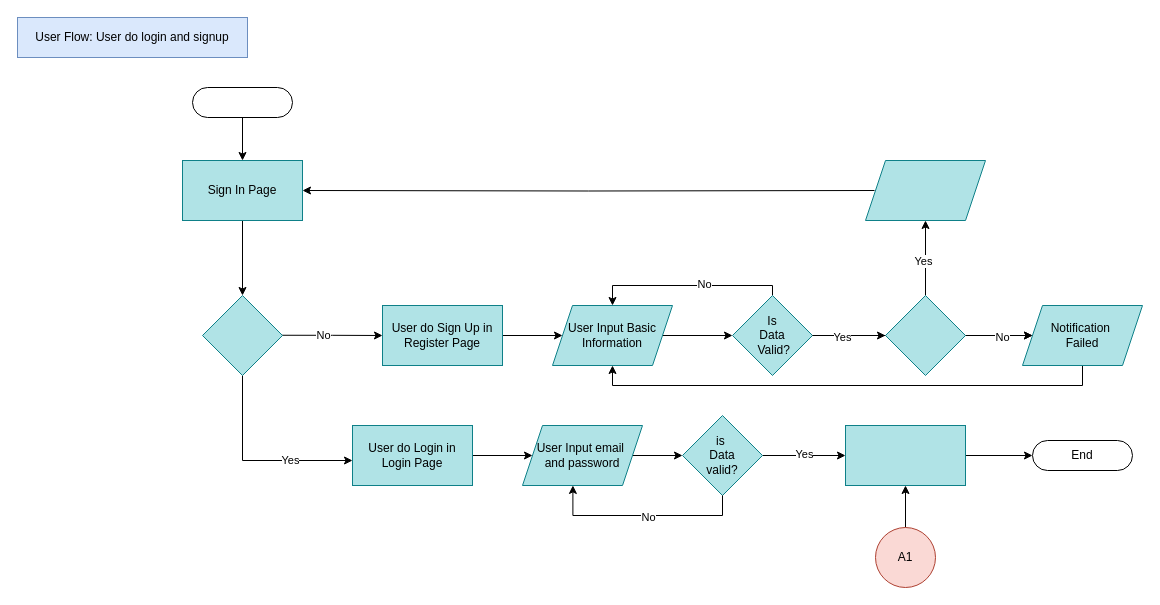
Some shapes in this 1160 by 605 pixel diagram are drawn without their labels. Each missing label, with the box of its shape:
Notification Success: (864, 160, 986, 220)
Register Success?: (884, 294, 966, 376)
Start: (192, 86, 292, 118)
User can access to pages in Zen Zone: (844, 424, 966, 486)
User have Account?: (202, 294, 282, 376)
